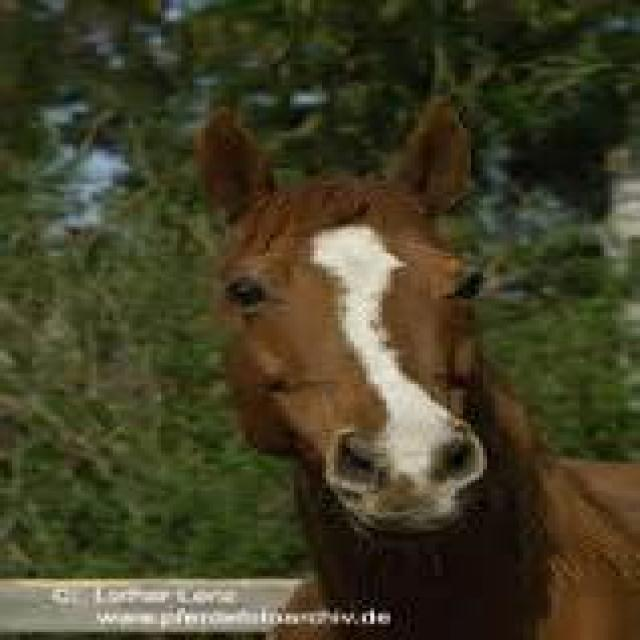animal: (189, 93, 636, 638)
